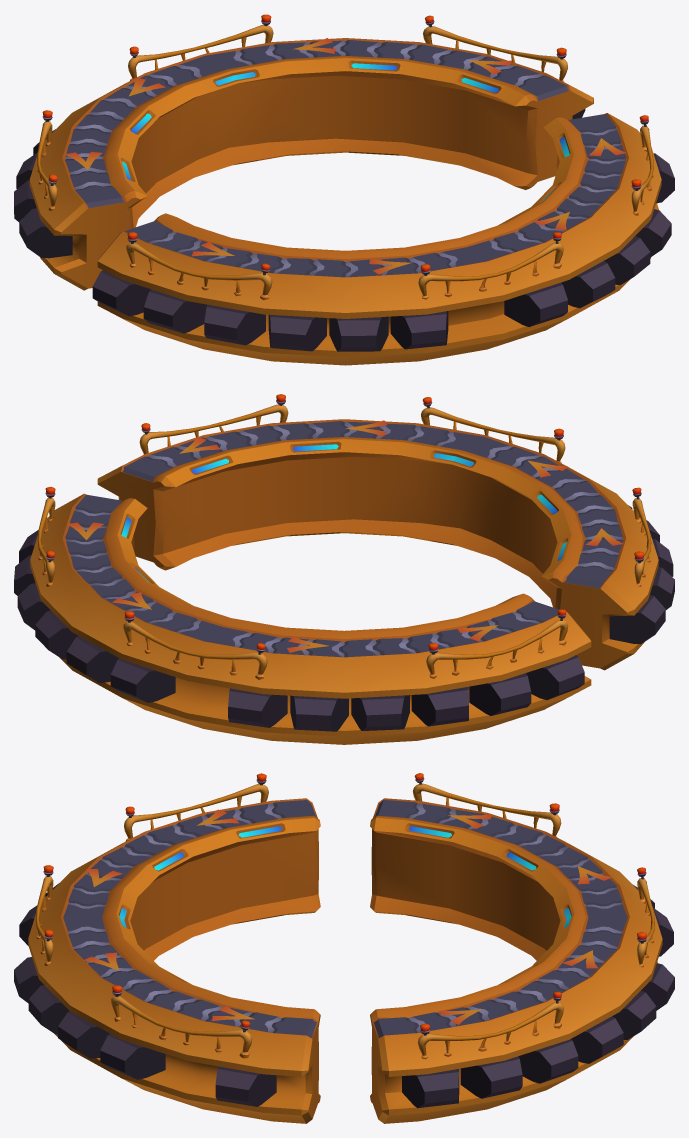
File: SM_Prison_Сonstruction_01.fbx
The picture shows the model from 3 angles, top to bottom: view 1: azimuth 30°, elevation 25°; view 2: azimuth 150°, elevation 25°; view 3: azimuth 270°, elevation 25°; orthographic projection.
Visible parts, largest first — view 1: SM_Prison_Сonstruction_01; view 2: SM_Prison_Сonstruction_01; view 3: SM_Prison_Сonstruction_01.
Part boxes in pixels (x1,y1,x2,y2): SM_Prison_Сonstruction_01: (14,14,674,365); SM_Prison_Сonstruction_01: (14,394,674,744); SM_Prison_Сonstruction_01: (14,773,674,1123).
Bounding box in the file's own units: 26.61 × 4.93 × 27.
